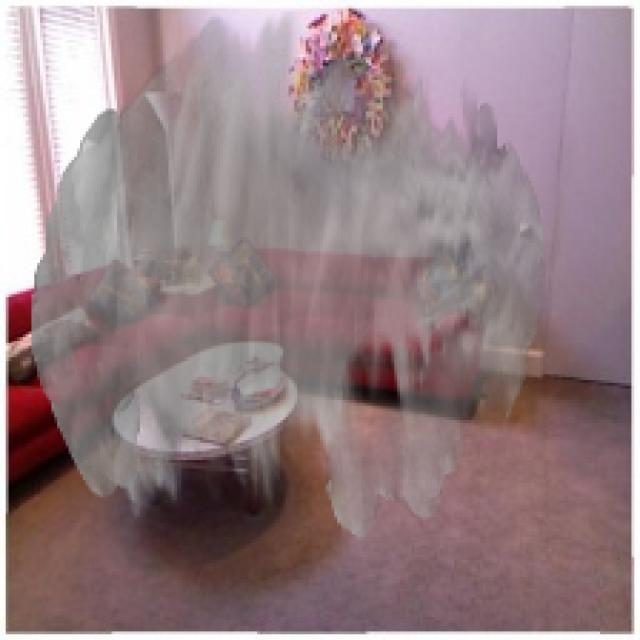smoke: (31, 11, 546, 540)
